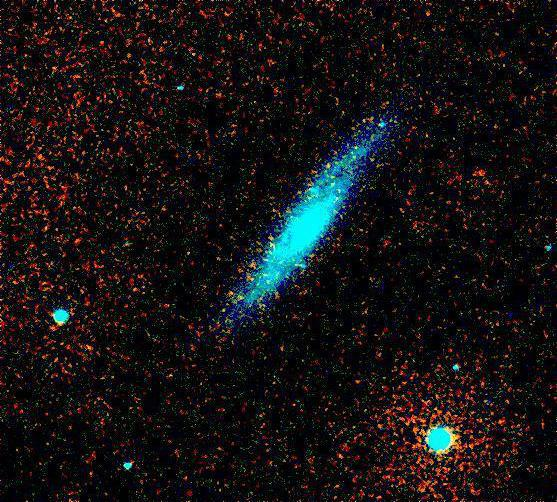star: (160, 360, 190, 390)
